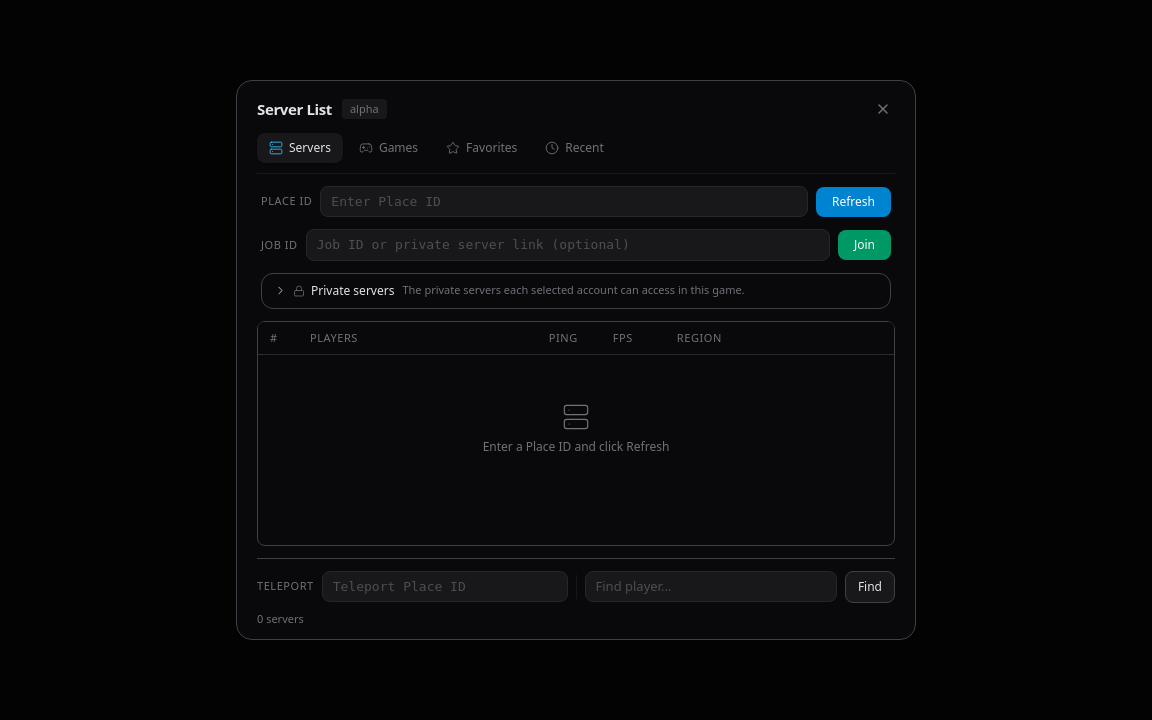
Scenario: ServerListDialog — menu do jogo completo, como na Choose Game › na aba Games o menu tem as ações do jogo
Click the button "Games" at [388, 148], box left=347, top=133, right=430, bottom=163
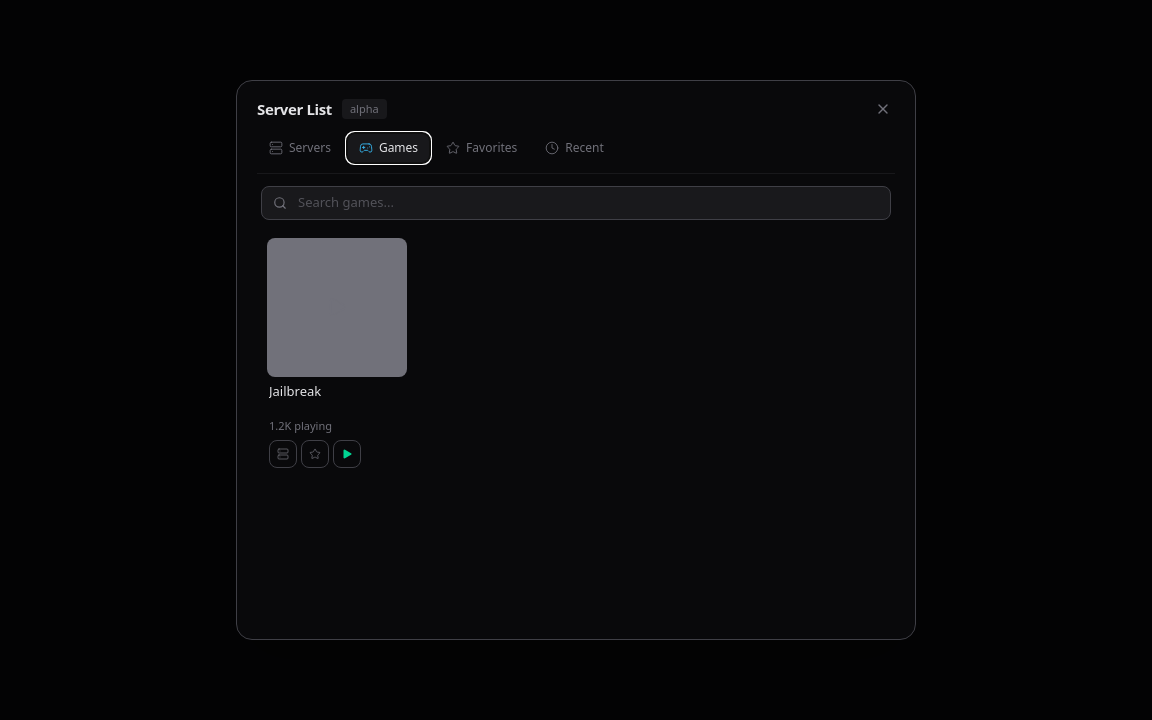
Right-click the text "Jailbreak" at [295, 391], box left=269, top=382, right=321, bottom=400
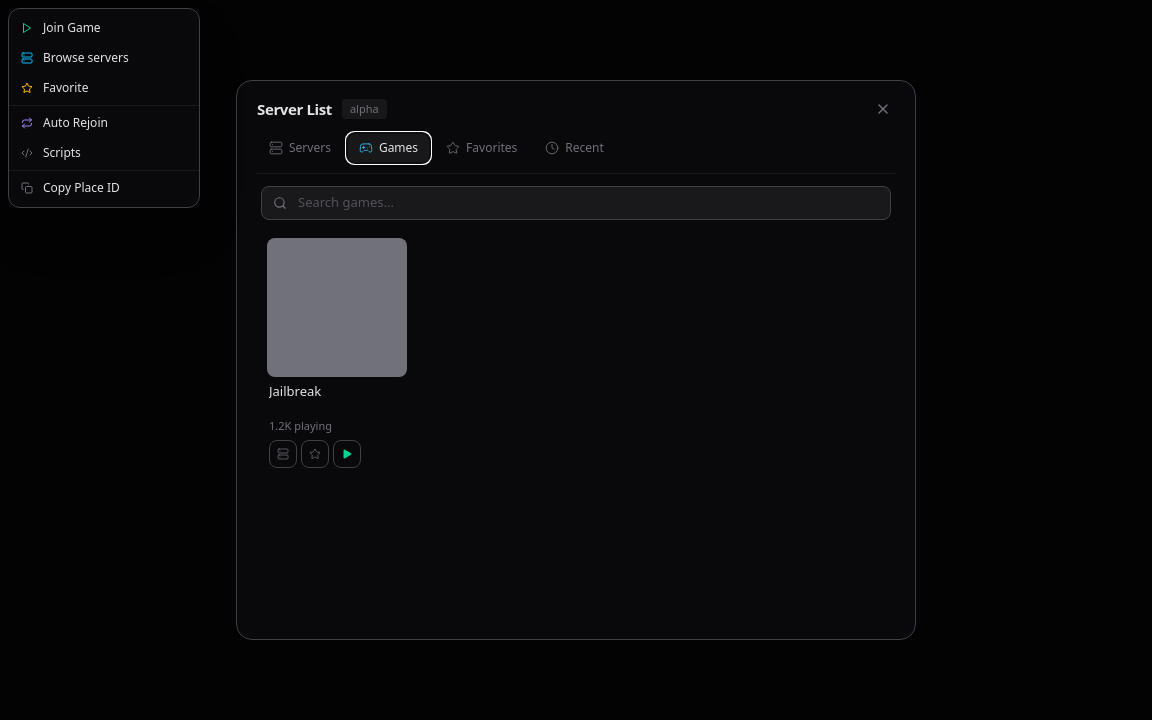
Now the button "Join Game" is shown, box left=9, top=13, right=199, bottom=43
Now the button "Browse servers" is shown, box left=9, top=43, right=199, bottom=73
Now the button "Auto Rejoin" is shown, box left=9, top=108, right=199, bottom=138
